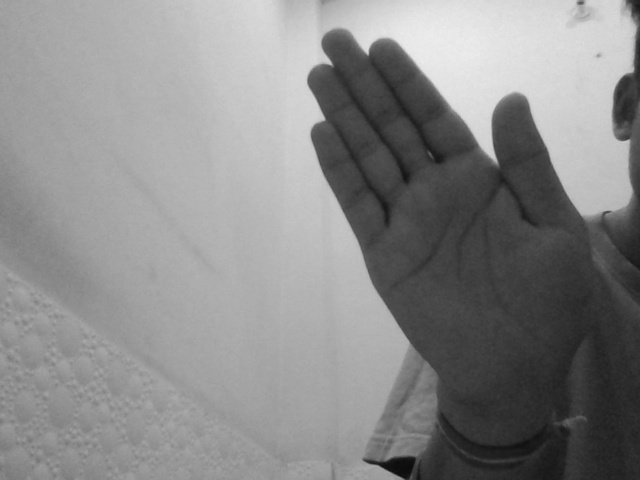Hello: (302, 24, 593, 401)
